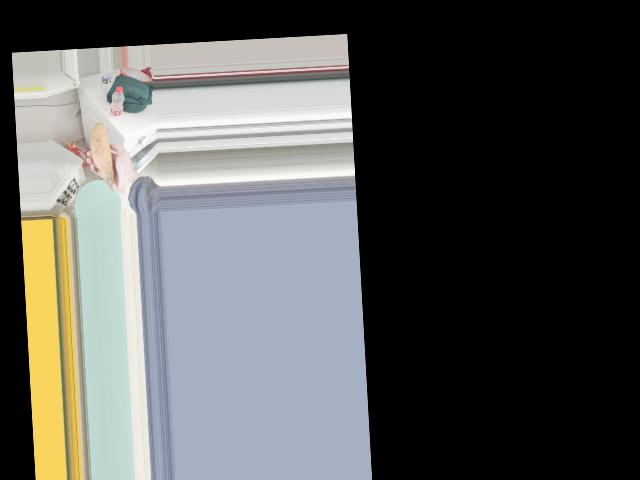sweet_potato: (86, 125, 110, 199)
